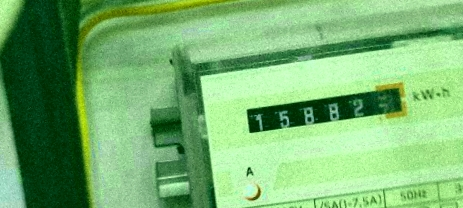1: (252, 111, 264, 130)
2: (350, 95, 365, 117)
5: (274, 107, 291, 128)
7: (375, 99, 388, 113)
8: (324, 99, 340, 121), (301, 103, 315, 124)
screen: (239, 78, 412, 140)
